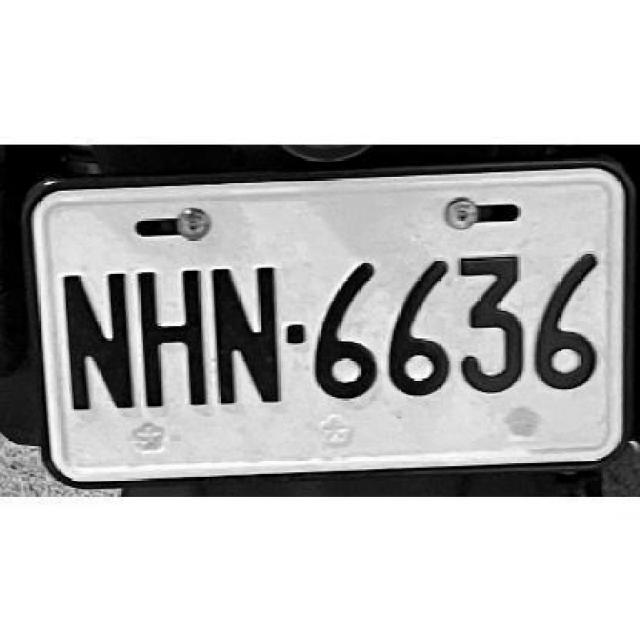-: (283, 320, 305, 342)
3: (457, 252, 521, 392)
6: (386, 257, 456, 400), (313, 255, 382, 400), (535, 246, 603, 389)
H: (134, 265, 209, 406)
N: (206, 262, 282, 406), (58, 268, 134, 410)
